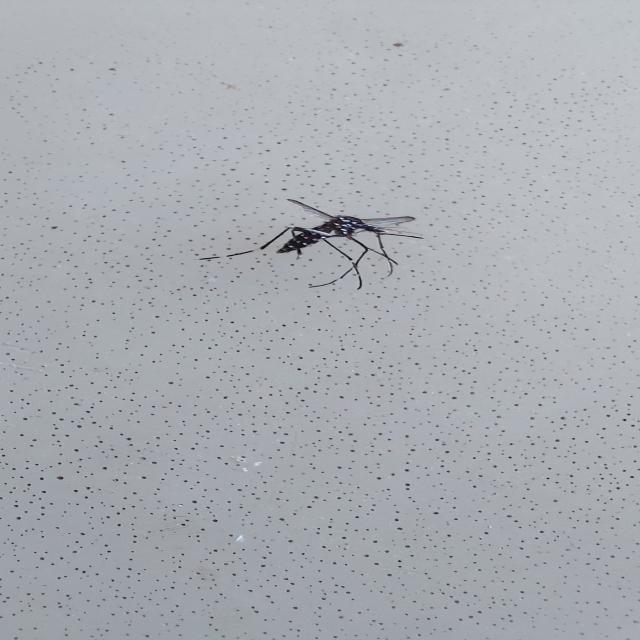albopictus: (217, 190, 428, 292)
